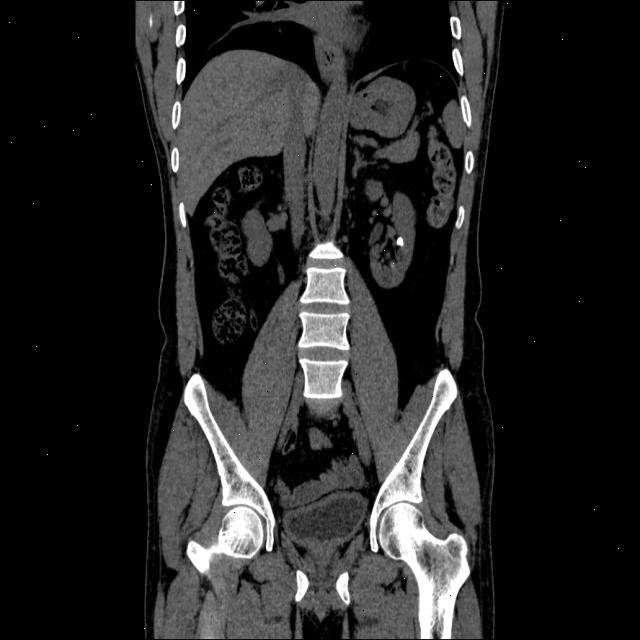kidneystone: (396, 236, 404, 246)
